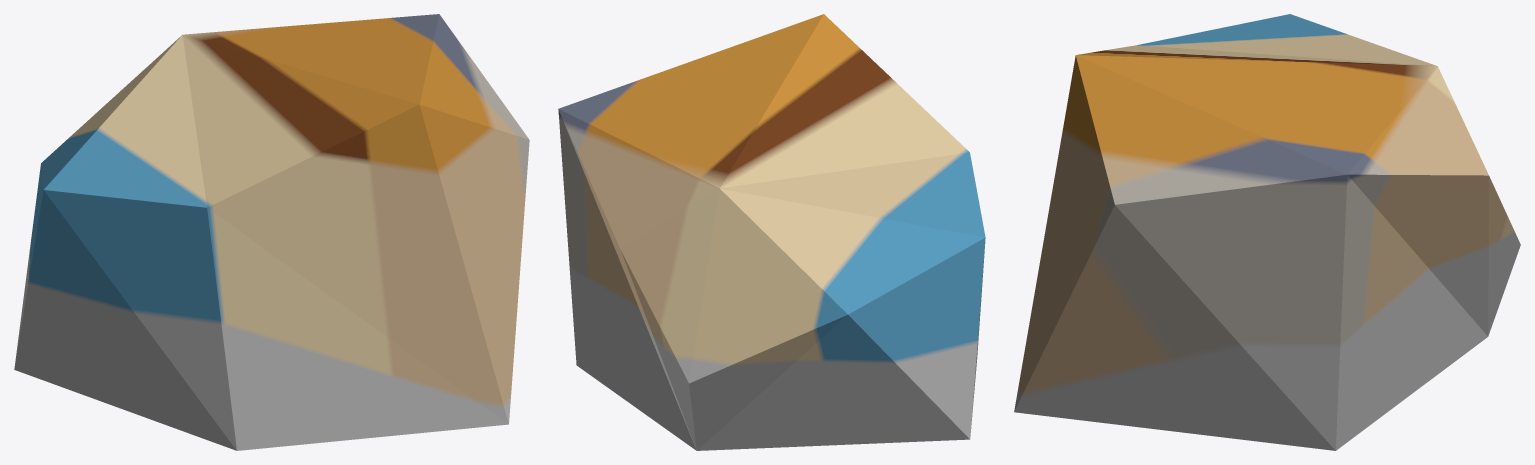
Rendered from Rock_02.fbx.
3 renders of one model, left to right at view 1: azimuth 30°, elevation 25°; view 2: azimuth 150°, elevation 25°; view 3: azimuth 270°, elevation 25°, orthographic. The views are drawn at different scales.
Visible parts, largest first — view 1: Rock_02; view 2: Rock_02; view 3: Rock_02.
Part boxes in pixels (x1,y1,x2,y2): Rock_02: [14, 14, 529, 450]; Rock_02: [558, 14, 985, 450]; Rock_02: [1014, 14, 1520, 450].
Size of the model in its own units: 0.9709 by 0.6757 by 0.9502.
